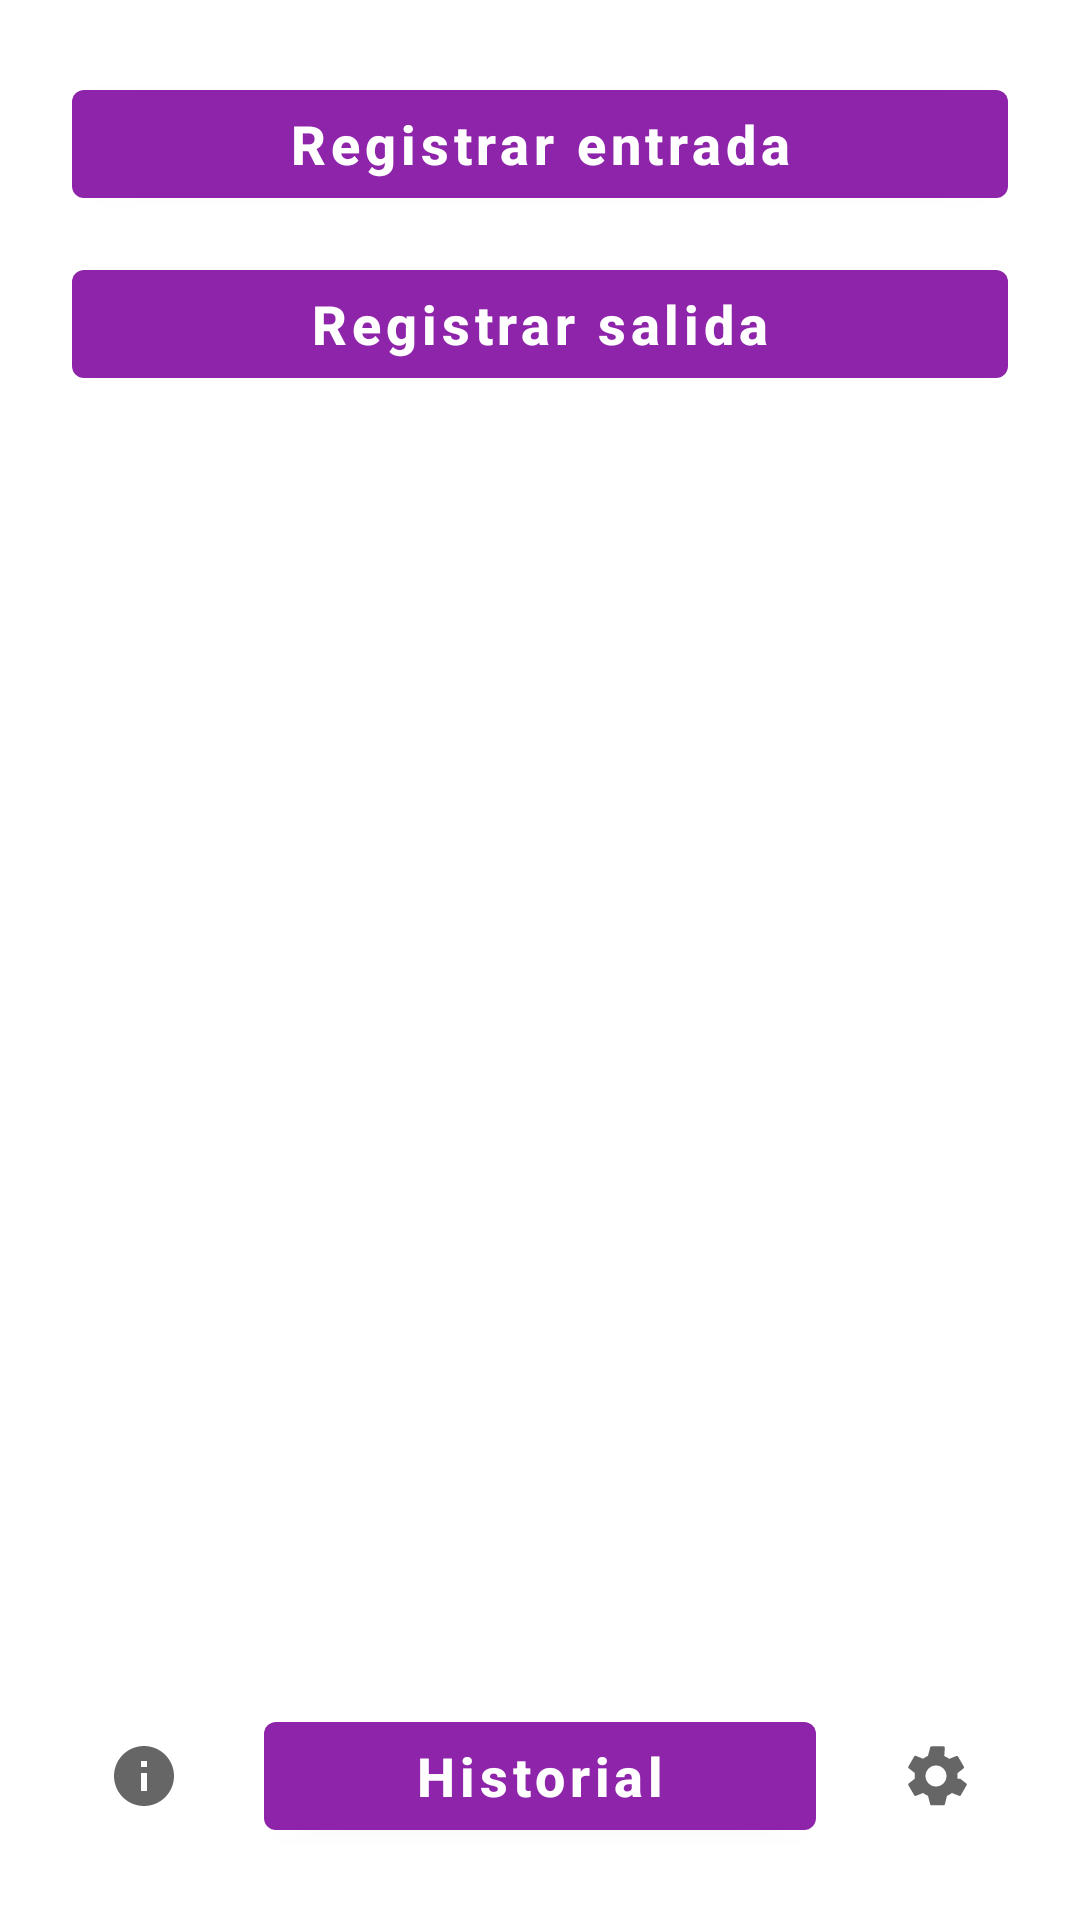

Icons on this 1080x1920 Android screen, each with the point to tap as [x,y]:
Ajustes: [937,1776]
Créditos: [144,1776]
